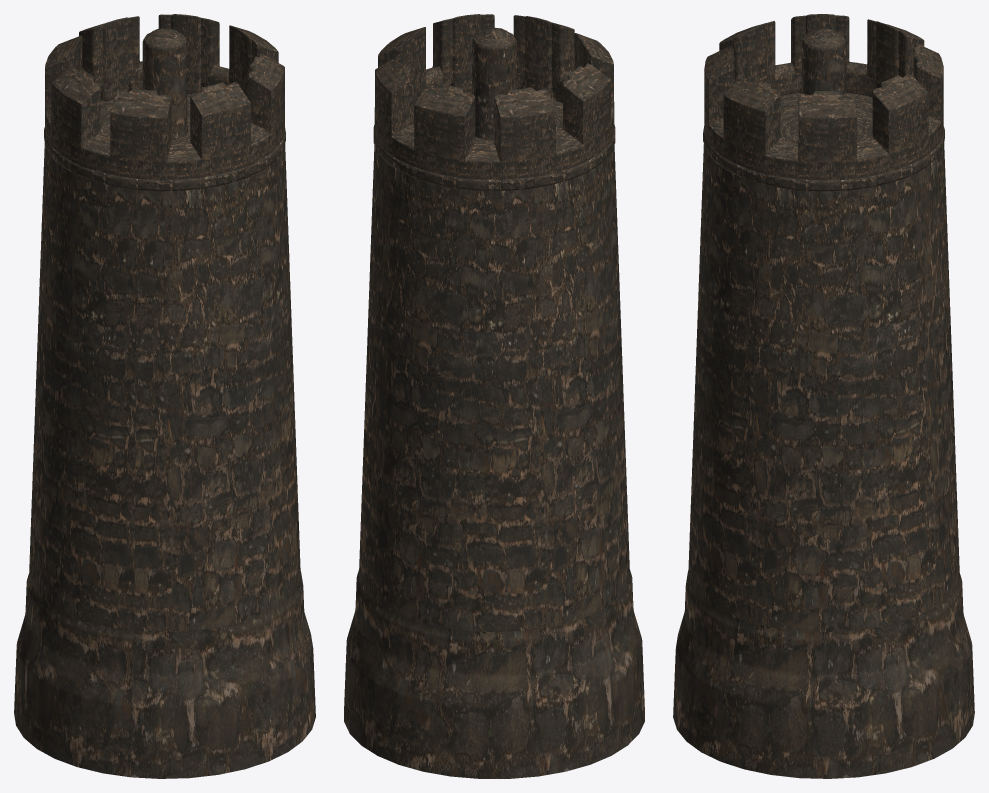
File: block_41.glb
The picture shows the model from 3 angles, left to right: view 1: azimuth 30°, elevation 25°; view 2: azimuth 150°, elevation 25°; view 3: azimuth 270°, elevation 25°; orthographic projection.
Parts seen in each view (by area): view 1: block_41; view 2: block_41; view 3: block_41.
Boxes of the visible parts, x1,y1,x2,y2 form: block_41: (14, 14, 315, 778); block_41: (344, 14, 644, 778); block_41: (673, 14, 974, 778).
Size of the model in its own units: 5.39 by 13.5 by 5.39.
Materials: 2 (2 with a texture image).
